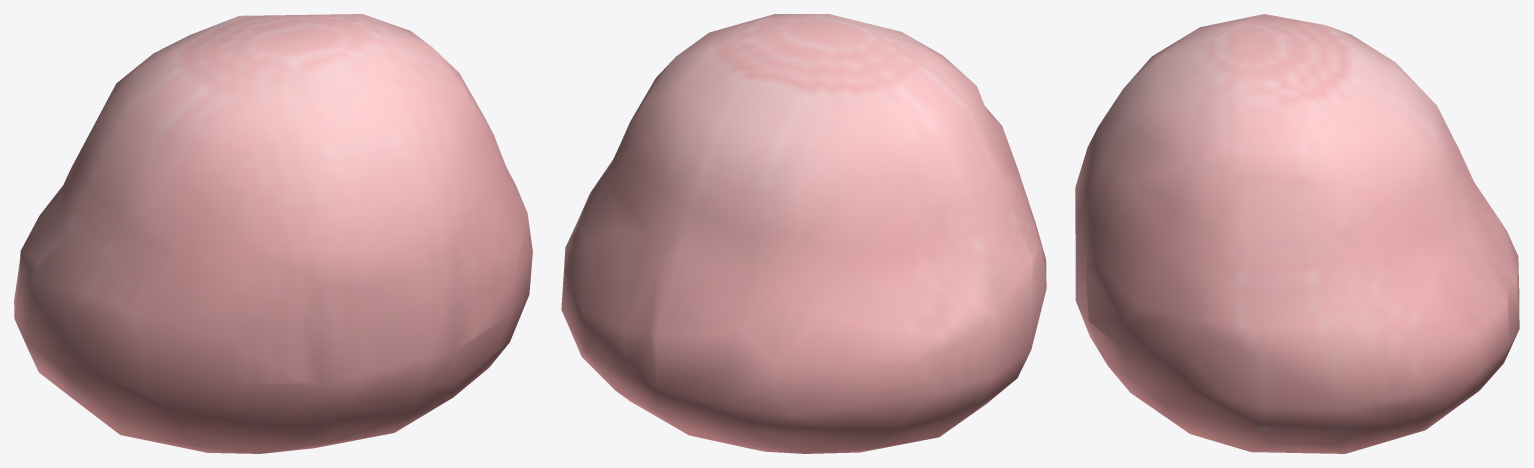
The picture shows the model from 3 angles, left to right: view 1: azimuth 30°, elevation 25°; view 2: azimuth 150°, elevation 25°; view 3: azimuth 270°, elevation 25°; orthographic projection. The views are drawn at different scales.
Size of the model in its own units: 1.22 by 1 by 1.12.
1 material, 1 textured.
